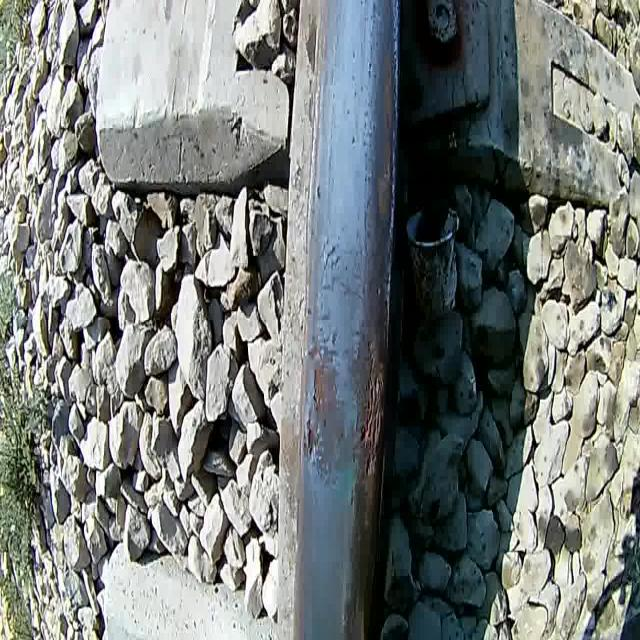Cracks: (316, 230, 346, 286)
Spallings: (361, 328, 388, 495), (374, 44, 396, 236), (304, 411, 318, 466), (312, 364, 324, 408)
Squats: (301, 324, 388, 519)
